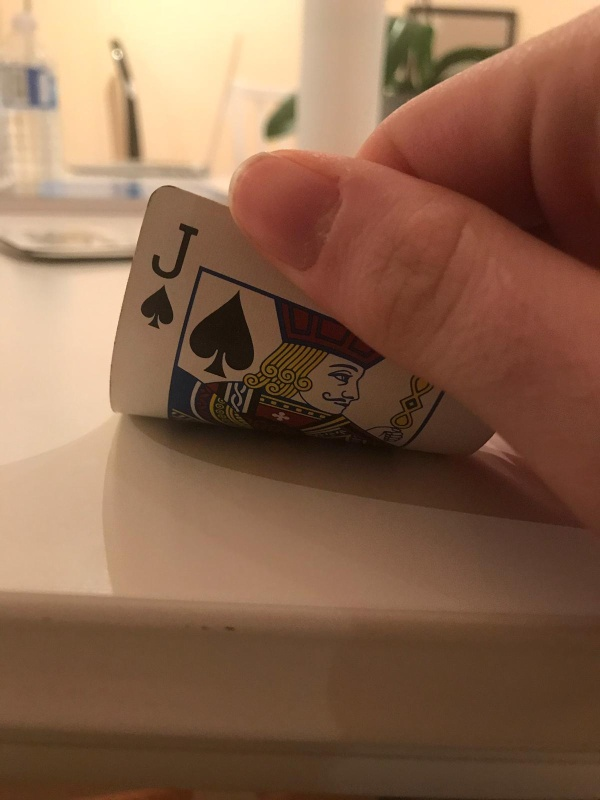Sj: (139, 212, 197, 335)
